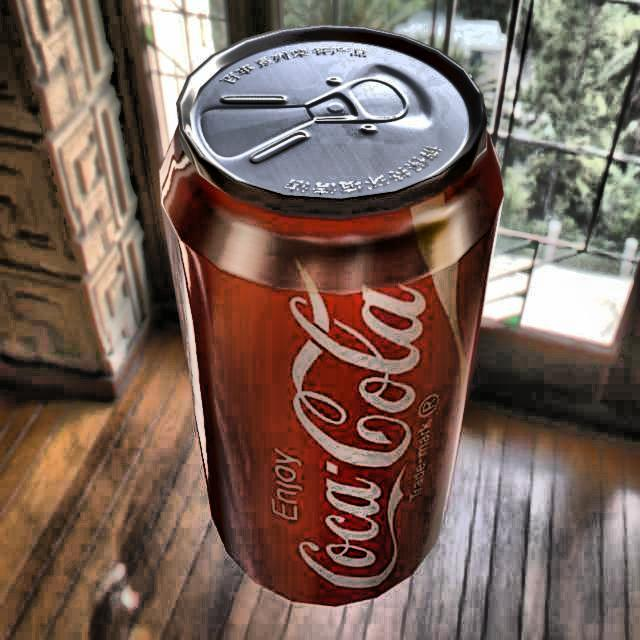can: (156, 17, 511, 621)
